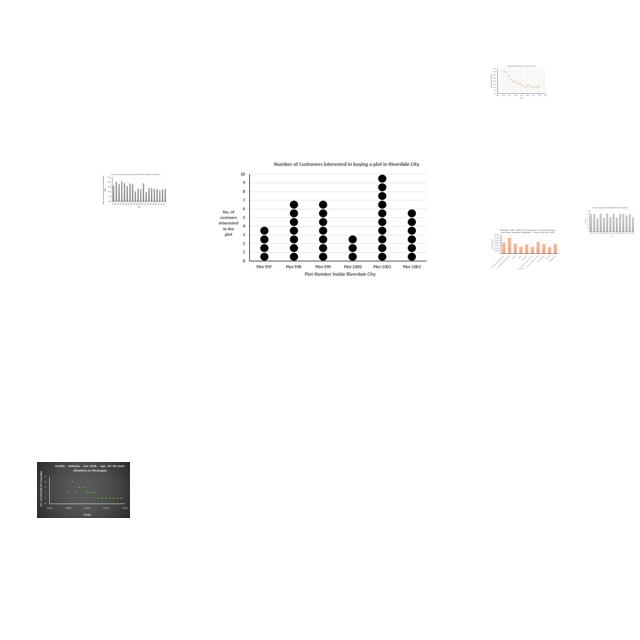Graph: (217, 160, 427, 280), (37, 462, 130, 518), (489, 228, 559, 270), (102, 172, 168, 209), (489, 64, 548, 99), (583, 206, 637, 238)
